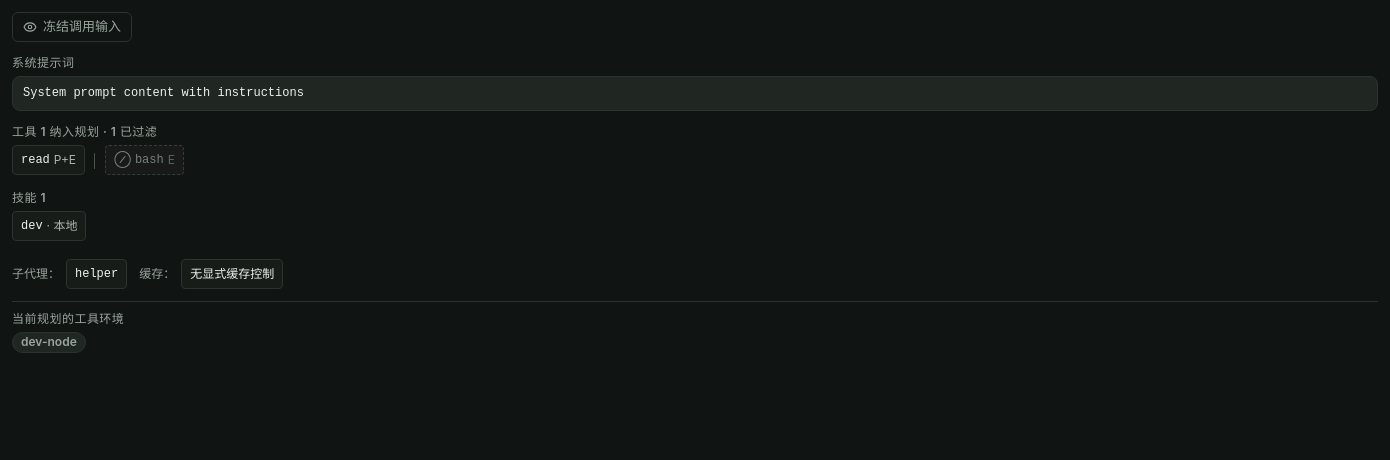
Test: ThreadModelRequestDebug & Inspector › Subagents and Cache inspection › opens cache inspector when retention is NONE: retains literal NONE and clarifies no explicit cache control without denying automatic caching
Click the button with aria-label "缓存 无显式缓存控制" at (232, 274), box 181,259 -> 283,289
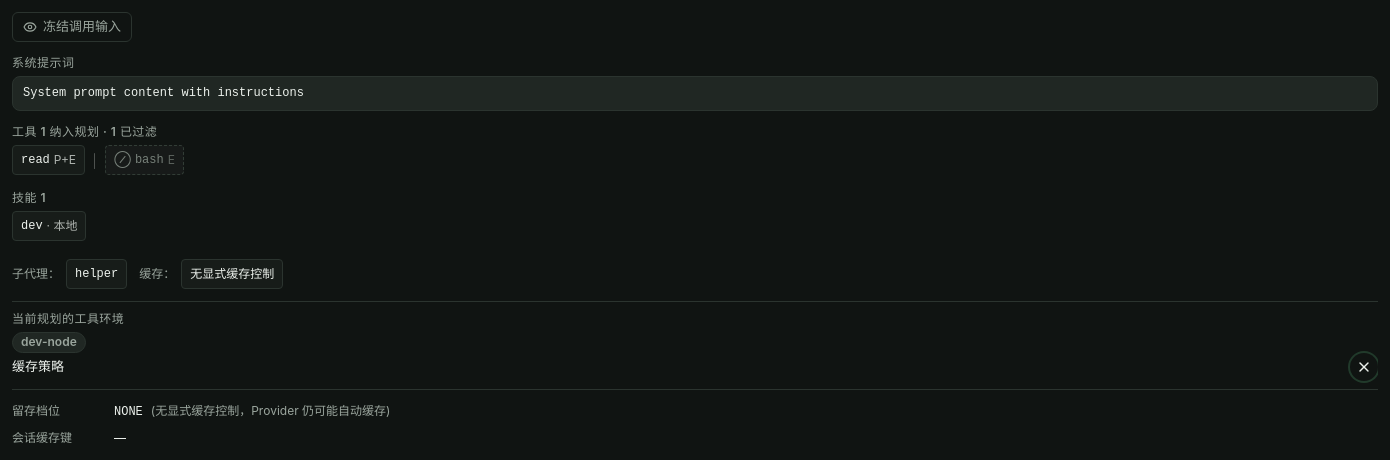
Now the text "NONE" is shown, box 114,405 -> 143,419
Now the text "(无显式缓存控制，Provider 仍可能自动缓存)" is shown, box 151,403 -> 390,418
